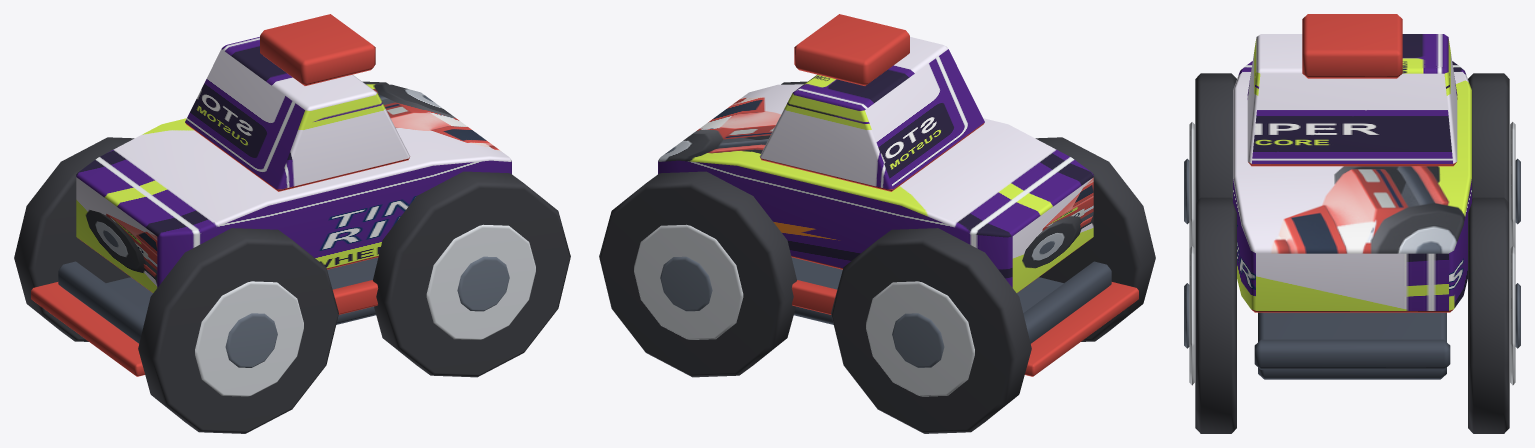
3 renders of one model, left to right at view 1: azimuth 30°, elevation 25°; view 2: azimuth 150°, elevation 25°; view 3: azimuth 270°, elevation 25°, orthographic. The views are drawn at different scales.
Visible parts, largest first — view 1: BW-03_connected_shell, Tire, Tire.002, BW-03_cabin, Tire.001, Rim.002, Rim, custom equipment, custom chin, front bumper, Hub.002, Hub (+2 smaller); view 2: BW-03_connected_shell, Tire.001, Tire.003, BW-03_cabin, Tire, Rim.003, Rim.001, custom equipment, custom chin, front bumper, Hub.003, Hub.001 (+2 smaller); view 3: BW-03_connected_shell, BW-03_cabin, Tire.002, Tire.003, underbody, custom equipment, rear bumper, Tire, Tire.001, Rim.002, Rim.003, Rim (+5 smaller).
Boxes of the visible parts, x1=… form: BW-03_connected_shell: x1=76, y1=84, x2=511, y2=292; Tire: x1=138, y1=228, x2=338, y2=433; Tire.002: x1=373, y1=171, x2=570, y2=377; BW-03_cabin: x1=185, y1=37, x2=410, y2=191; Tire.001: x1=14, y1=137, x2=134, y2=341; Rim.002: x1=426, y1=224, x2=535, y2=339; Rim: x1=195, y1=281, x2=303, y2=396; custom equipment: x1=260, y1=14, x2=375, y2=85; custom chin: x1=31, y1=282, x2=144, y2=376; front bumper: x1=58, y1=261, x2=146, y2=343; Hub.002: x1=457, y1=256, x2=509, y2=311; Hub: x1=225, y1=313, x2=277, y2=367; BW-03_connected_shell: x1=658, y1=84, x2=1093, y2=292; Tire.001: x1=831, y1=228, x2=1031, y2=433; Tire.003: x1=599, y1=171, x2=796, y2=377; BW-03_cabin: x1=759, y1=37, x2=984, y2=191; Tire: x1=1035, y1=137, x2=1155, y2=341; Rim.003: x1=634, y1=224, x2=743, y2=339; Rim.001: x1=866, y1=281, x2=974, y2=396; custom equipment: x1=794, y1=14, x2=909, y2=85; custom chin: x1=1025, y1=282, x2=1138, y2=376; front bumper: x1=1023, y1=261, x2=1111, y2=343; Hub.003: x1=660, y1=256, x2=712, y2=311; Hub.001: x1=892, y1=313, x2=944, y2=367; BW-03_connected_shell: x1=1233, y1=61, x2=1471, y2=312; BW-03_cabin: x1=1247, y1=34, x2=1457, y2=166; Tire.002: x1=1195, y1=197, x2=1236, y2=433; Tire.003: x1=1468, y1=197, x2=1509, y2=433; underbody: x1=1258, y1=312, x2=1446, y2=379; custom equipment: x1=1302, y1=14, x2=1402, y2=78; rear bumper: x1=1254, y1=339, x2=1450, y2=369; Tire: x1=1195, y1=73, x2=1236, y2=202; Tire.001: x1=1468, y1=73, x2=1509, y2=202; Rim.002: x1=1189, y1=246, x2=1194, y2=385; Rim.003: x1=1510, y1=246, x2=1515, y2=385; Rim: x1=1189, y1=122, x2=1194, y2=248.
Size of the model in its own units: 332 by 236 by 210.
